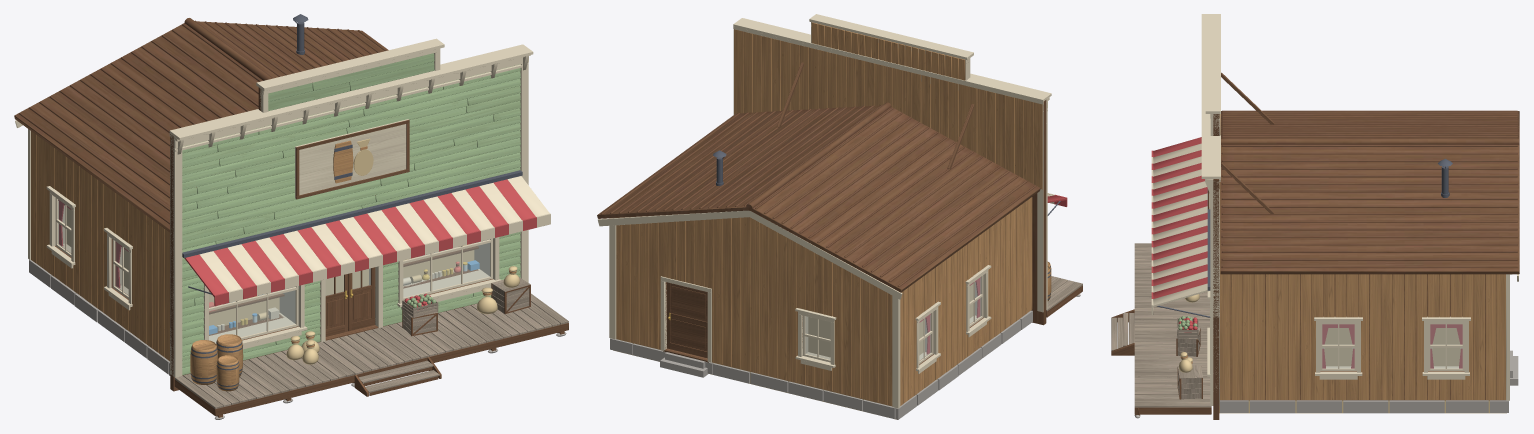
File: general-store-4YPNXV5F.glb
3 renders of one model, left to right at view 1: azimuth 30°, elevation 25°; view 2: azimuth 150°, elevation 25°; view 3: azimuth 270°, elevation 25°, orthographic. The views are drawn at different scales.
Parts seen in each view (by area): view 1: general-store_boards, general-store_trim, general-store_body, general-store_glass; view 2: general-store_boards, general-store_body, general-store_trim, general-store_glass; view 3: general-store_body, general-store_boards, general-store_trim, general-store_glass.
Boxes of the visible parts, bbox=[...] form: general-store_boards: bbox=[31, 53, 568, 417]; general-store_trim: bbox=[15, 14, 566, 419]; general-store_body: bbox=[14, 18, 493, 391]; general-store_glass: bbox=[58, 200, 489, 343]; general-store_boards: bbox=[616, 22, 1082, 405]; general-store_body: bbox=[597, 100, 1046, 419]; general-store_trim: bbox=[598, 14, 1080, 419]; general-store_glass: bbox=[805, 277, 980, 360]; general-store_body: bbox=[1213, 110, 1519, 419]; general-store_boards: bbox=[1111, 72, 1505, 415]; general-store_trim: bbox=[1134, 14, 1518, 418]; general-store_glass: bbox=[1322, 324, 1462, 368].
Size of the model in its own units: 10 by 7.7 by 10.6.
Materials: 30 (10 with a texture image).
